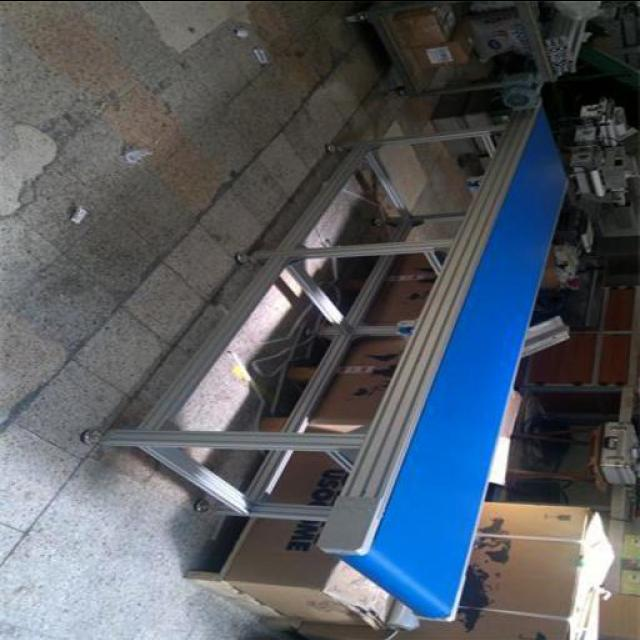conveyor: (362, 110, 572, 619)
